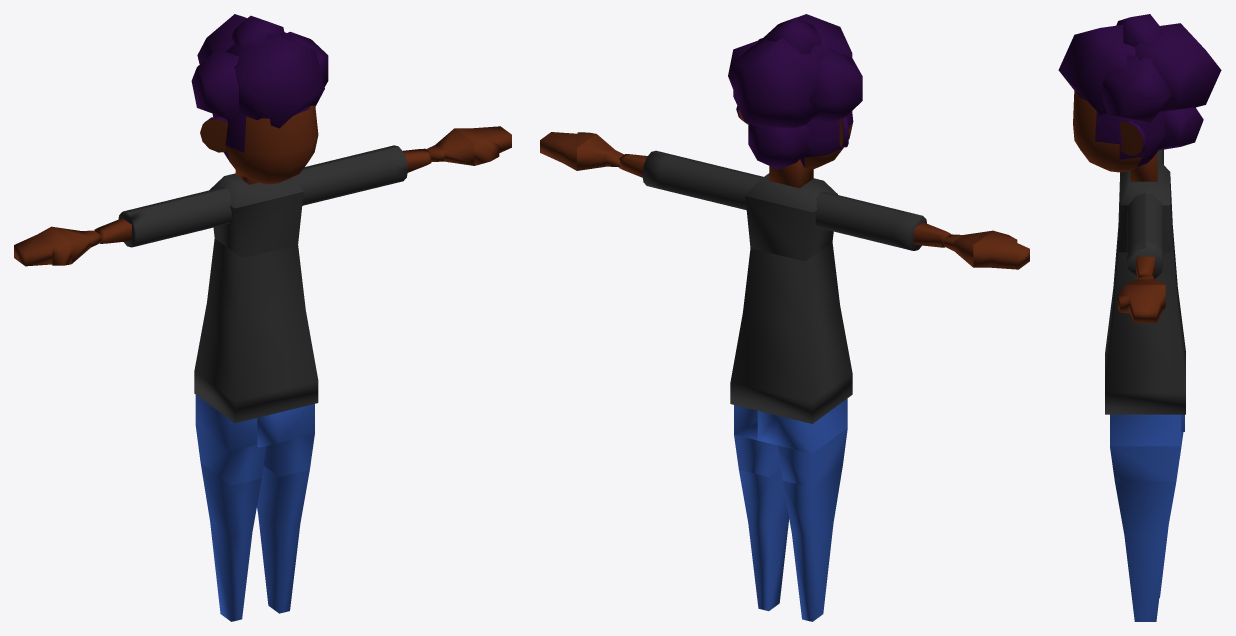
Rendered from humanoid.fbx.
3 views of the same model, side by side, from view 1: azimuth 30°, elevation 25°; view 2: azimuth 150°, elevation 25°; view 3: azimuth 270°, elevation 25° (orthographic).
Parts seen in each view (by area): view 1: mesh01, mesh_Left_, mesh02, mesh10, mesh23, mesh06, mesh03, mesh13, mesh05, mesh09, mesh16, mesh12 (+2 smaller); view 2: mesh01, mesh_Left_, mesh02, mesh12, mesh06, mesh03, mesh13, mesh05, mesh09, mesh15, mesh23, mesh16 (+3 smaller); view 3: mesh01, mesh02, mesh12, mesh23, mesh10, mesh14, mesh06, mesh09, mesh15, mesh16, mesh25, mesh_neck (+1 smaller).
Part boxes in pixels (x1,y1,x2,y2): mesh01: [194, 173, 318, 423]; mesh_Left_: [195, 395, 266, 621]; mesh02: [257, 404, 314, 613]; mesh10: [225, 33, 324, 128]; mesh23: [222, 105, 318, 184]; mesh06: [291, 145, 407, 205]; mesh03: [118, 187, 231, 247]; mesh13: [191, 49, 239, 120]; mesh05: [14, 226, 101, 266]; mesh09: [426, 126, 511, 165]; mesh16: [231, 15, 285, 49]; mesh12: [197, 14, 295, 64]; mesh01: [730, 173, 852, 423]; mesh_Left_: [757, 398, 847, 621]; mesh02: [734, 405, 789, 611]; mesh12: [733, 36, 821, 127]; mesh06: [642, 150, 763, 209]; mesh03: [815, 192, 926, 250]; mesh13: [809, 48, 862, 124]; mesh05: [944, 230, 1029, 269]; mesh09: [540, 132, 623, 170]; mesh15: [748, 123, 809, 169]; mesh23: [800, 111, 853, 168]; mesh16: [767, 17, 821, 54]; mesh01: [1105, 161, 1185, 414]; mesh02: [1110, 414, 1181, 621]; mesh12: [1135, 23, 1221, 111]; mesh23: [1073, 89, 1167, 172]; mesh10: [1058, 25, 1135, 114]; mesh14: [1102, 55, 1171, 123]; mesh06: [1127, 192, 1163, 279]; mesh09: [1118, 275, 1165, 322]; mesh15: [1157, 107, 1203, 150]; mesh16: [1116, 14, 1163, 47]; mesh25: [1119, 120, 1146, 155]; mesh_neck: [1130, 152, 1157, 181].
Bounding box in the file's own units: 56.61 × 66.43 × 16.56.
